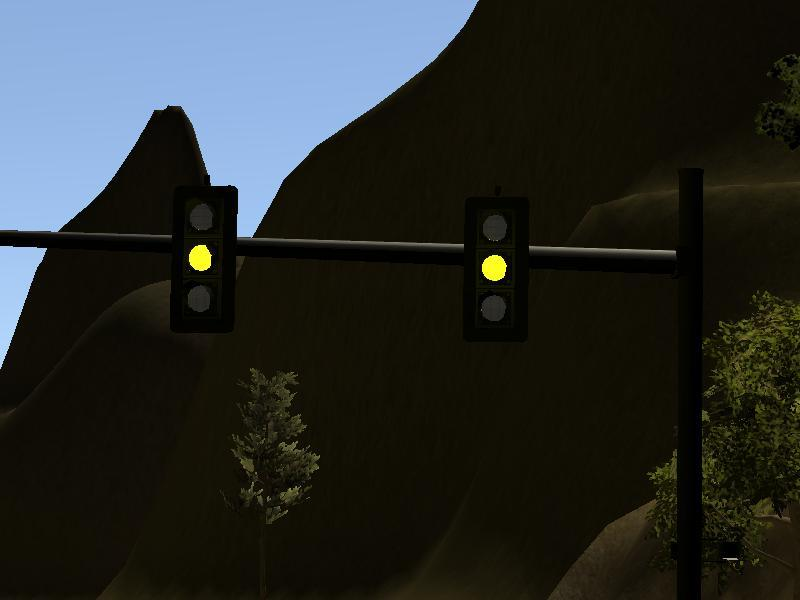Yellow: (170, 186, 237, 334), (463, 193, 527, 342)
